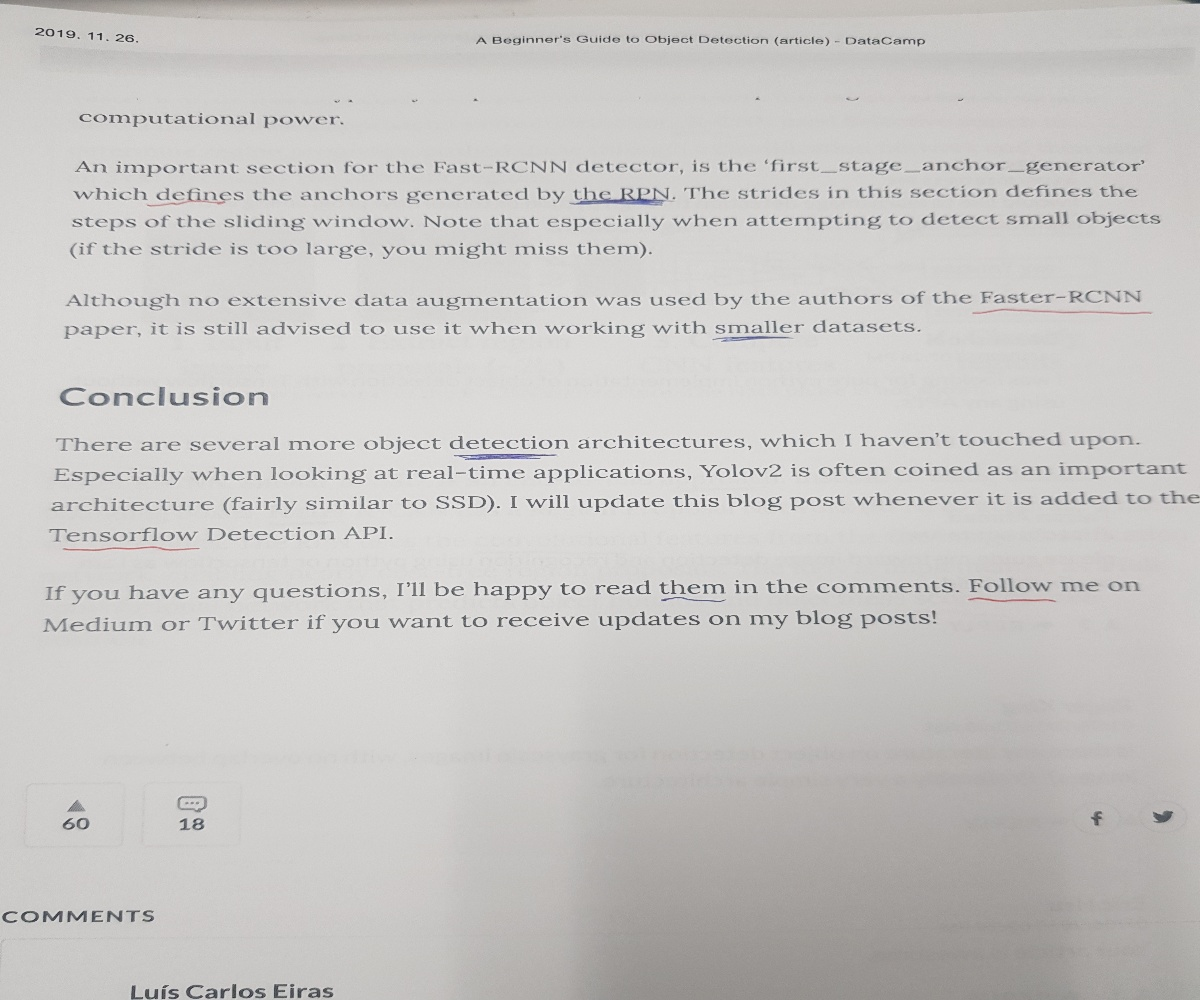underline: (968, 305, 1154, 319), (454, 449, 561, 466), (63, 542, 200, 554), (568, 196, 678, 210), (966, 595, 1062, 607), (709, 333, 794, 345), (145, 198, 230, 209), (657, 594, 727, 607)
